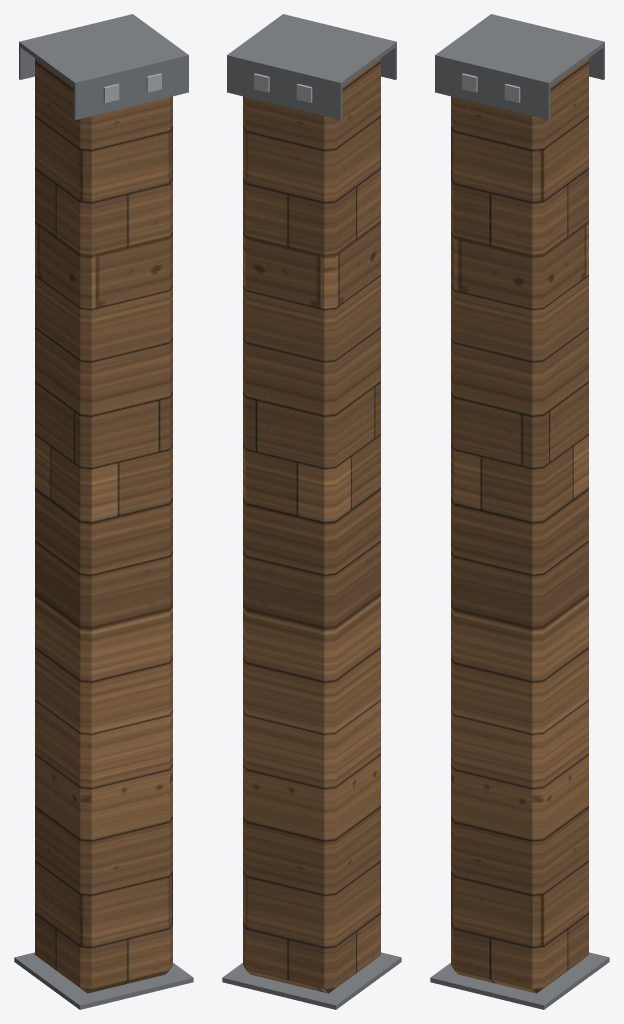
The model's file is post_timber.glb.
3 views of the same model, side by side, from view 1: azimuth 30°, elevation 25°; view 2: azimuth 150°, elevation 25°; view 3: azimuth 330°, elevation 25° (orthographic).
Visible parts, largest first — view 1: post_timber_timber, post_timber_steel_d, post_timber_steel; view 2: post_timber_timber, post_timber_steel_d, post_timber_steel; view 3: post_timber_timber, post_timber_steel_d, post_timber_steel.
Boxes of the visible parts, x1,y1,x2,y2 form: post_timber_timber: (35,58,172,993); post_timber_steel_d: (14,14,193,1009); post_timber_steel: (103,73,161,102); post_timber_timber: (243,58,380,993); post_timber_steel_d: (222,14,401,1009); post_timber_steel: (254,73,312,102); post_timber_timber: (451,58,588,993); post_timber_steel_d: (430,14,609,1009); post_timber_steel: (462,73,520,102).
Size of the model in its own units: 0.32 by 2.48 by 0.32.
Materials: 3 (1 with a texture image).
